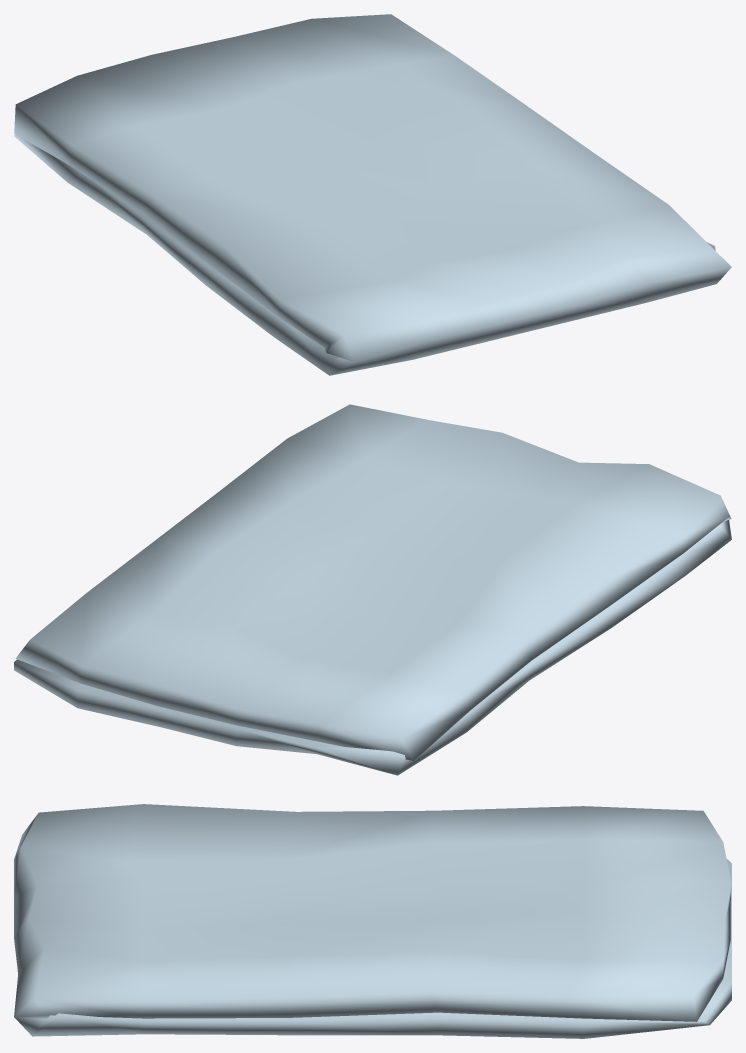
File: cloth3.fbx
3 renders of one model, top to bottom at view 1: azimuth 30°, elevation 25°; view 2: azimuth 150°, elevation 25°; view 3: azimuth 270°, elevation 25°, orthographic. The views are drawn at different scales.
Parts seen in each view (by area): view 1: Object_2; view 2: Object_2; view 3: Object_2.
Boxes of the visible parts, bbox=[...] form: Object_2: bbox=[14, 14, 731, 375]; Object_2: bbox=[14, 404, 731, 775]; Object_2: bbox=[14, 804, 731, 1038].
Bounding box in the file's own units: 2558 × 321 × 3854.
